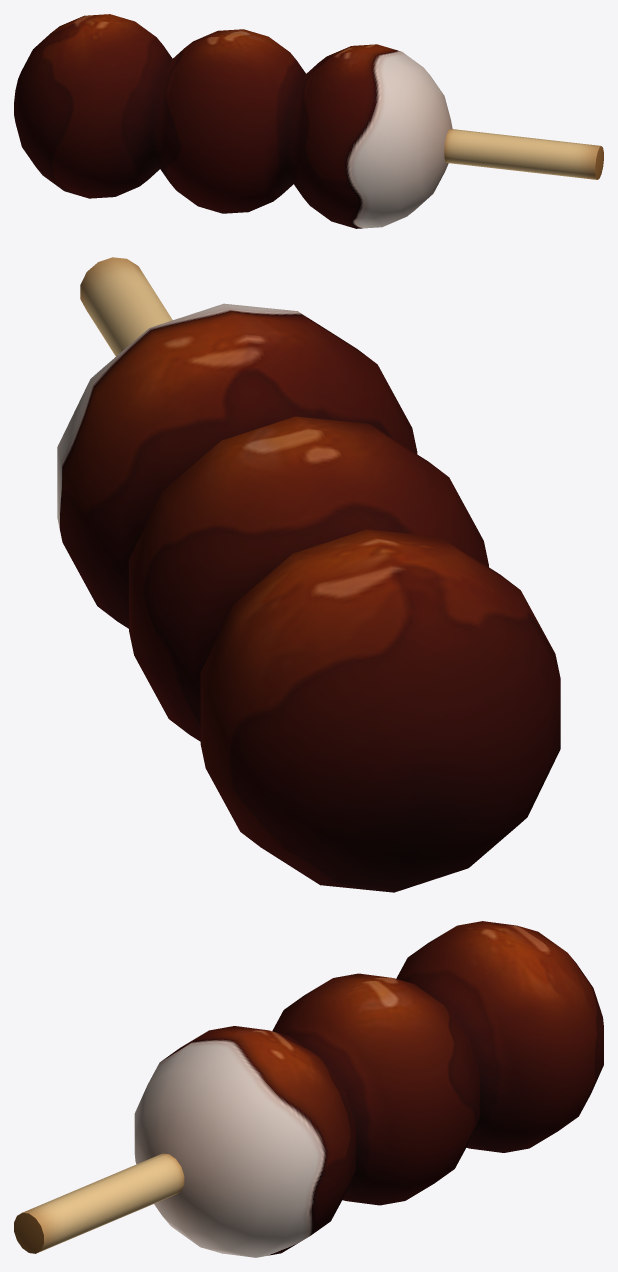
File: 010-Dango_03.FBX
3 views of the same model, one above another, from view 1: azimuth 30°, elevation 25°; view 2: azimuth 150°, elevation 25°; view 3: azimuth 270°, elevation 25° (orthographic). The views are drawn at different scales.
Parts seen in each view (by area): view 1: 010-Dango_03; view 2: 010-Dango_03; view 3: 010-Dango_03.
Part boxes in pixels (<box>): 010-Dango_03: <box>14,14,603,228</box>; 010-Dango_03: <box>57,257,560,892</box>; 010-Dango_03: <box>14,921,603,1257</box>.
Size of the model in its own units: 20.66 by 8.25 by 20.66.
